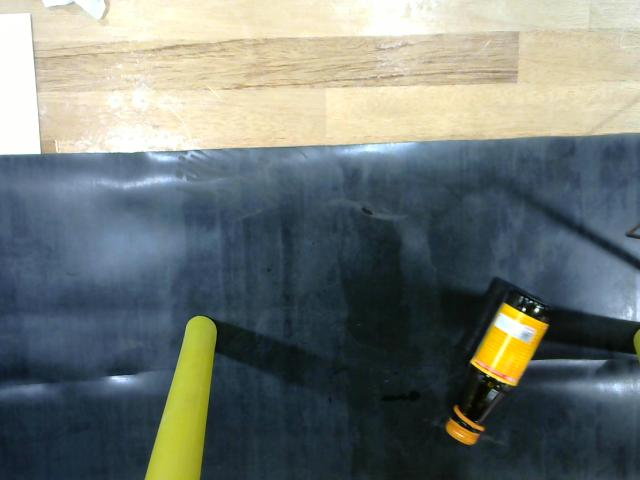glass: (439, 277, 565, 451)
